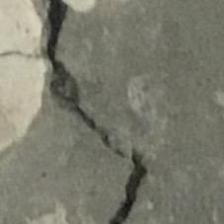Crack: (36, 0, 184, 224)
